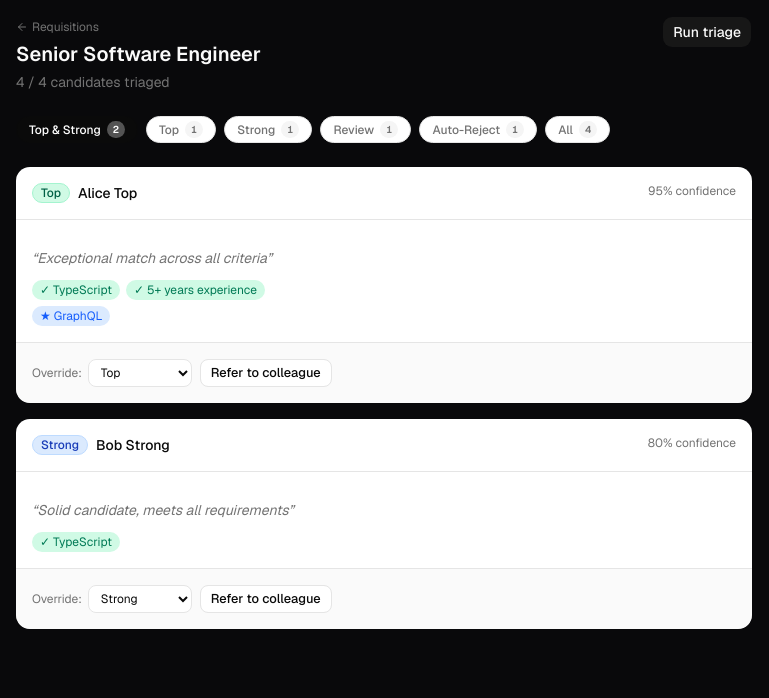
Test: interactions › Run triage button shows loading state while in-flight
Click the button "Run triage" at (707, 32), box x1=662 y1=16 x2=752 y2=48
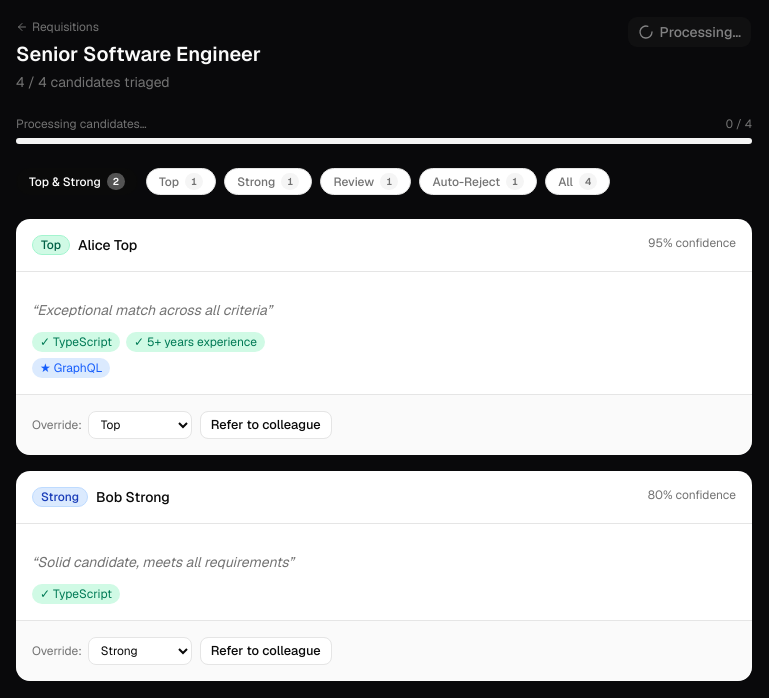
Expected: the button "Processing…" is disabled, x1=627 y1=16 x2=752 y2=48
